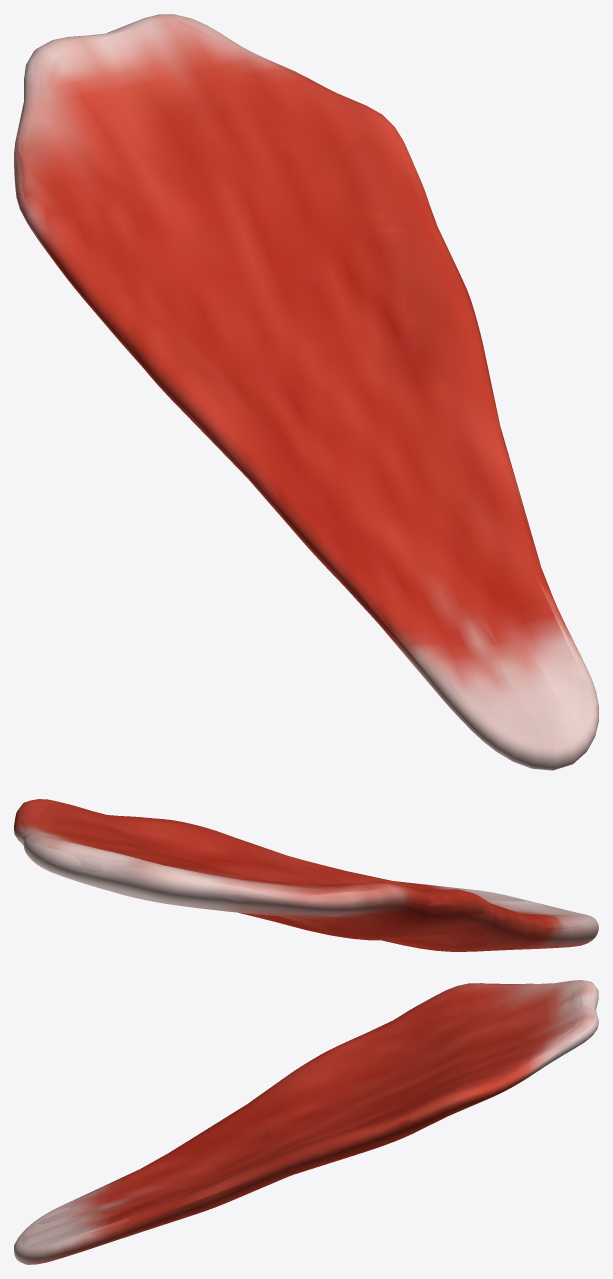
Rendered from Geniohyoideus.fbx.
The picture shows the model from 3 angles, top to bottom: view 1: azimuth 30°, elevation 25°; view 2: azimuth 150°, elevation 25°; view 3: azimuth 270°, elevation 25°; orthographic projection. The views are drawn at different scales.
Visible parts, largest first — view 1: Geniohyoideus low, Geniohyoideus; view 2: Geniohyoideus, Geniohyoideus low; view 3: Geniohyoideus low, Geniohyoideus.
Boxes of the visible parts, x1,y1,x2,y2 form: Geniohyoideus low: [16, 19, 586, 741]; Geniohyoideus: [14, 14, 598, 770]; Geniohyoideus: [14, 799, 598, 951]; Geniohyoideus low: [14, 802, 586, 949]; Geniohyoideus low: [22, 981, 597, 1246]; Geniohyoideus: [14, 980, 598, 1264].
Size of the model in its own units: 12 by 12.83 by 26.2.
Materials: 1 (1 with a texture image).
